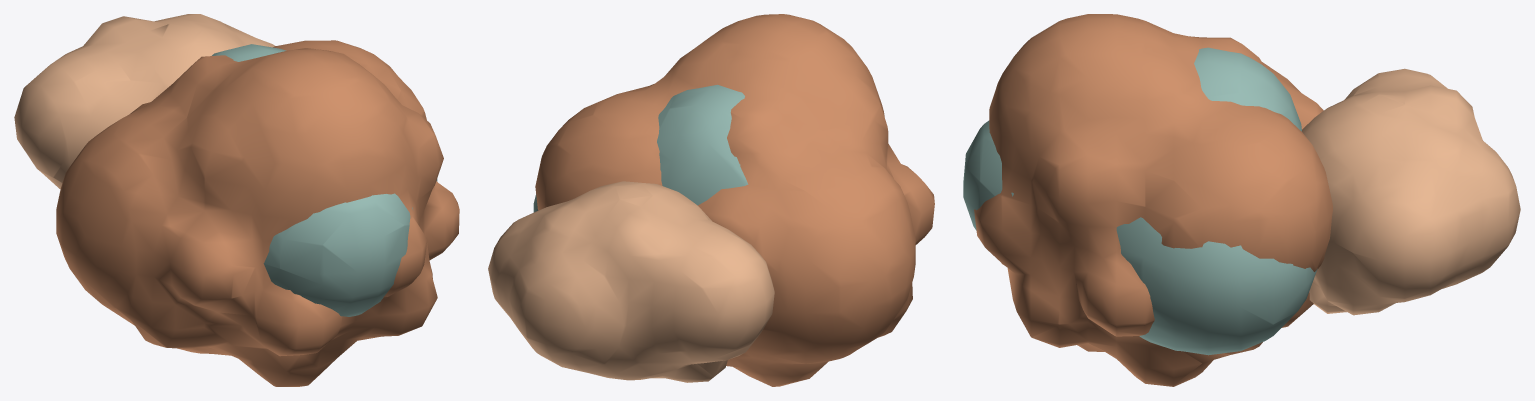
The model's file is molecules.glb.
The picture shows the model from 3 angles, left to right: view 1: azimuth 30°, elevation 25°; view 2: azimuth 150°, elevation 25°; view 3: azimuth 270°, elevation 25°; orthographic projection. The views are drawn at different scales.
Parts seen in each view (by area): view 1: ribosome_large, ribosome_small, polymerase; view 2: ribosome_large, ribosome_small, polymerase; view 3: ribosome_large, ribosome_small, polymerase.
Part boxes in pixels (bbox=[...]): ribosome_large: bbox=[56, 40, 459, 386]; ribosome_small: bbox=[14, 14, 275, 189]; polymerase: bbox=[212, 44, 437, 316]; ribosome_large: bbox=[535, 14, 934, 386]; ribosome_small: bbox=[488, 181, 774, 382]; polymerase: bbox=[533, 84, 748, 212]; ribosome_large: bbox=[974, 14, 1332, 386]; ribosome_small: bbox=[1302, 68, 1520, 315]; polymerase: bbox=[963, 47, 1317, 355].
Bounding box in the file's own units: 1.57 × 1.34 × 2.05.
